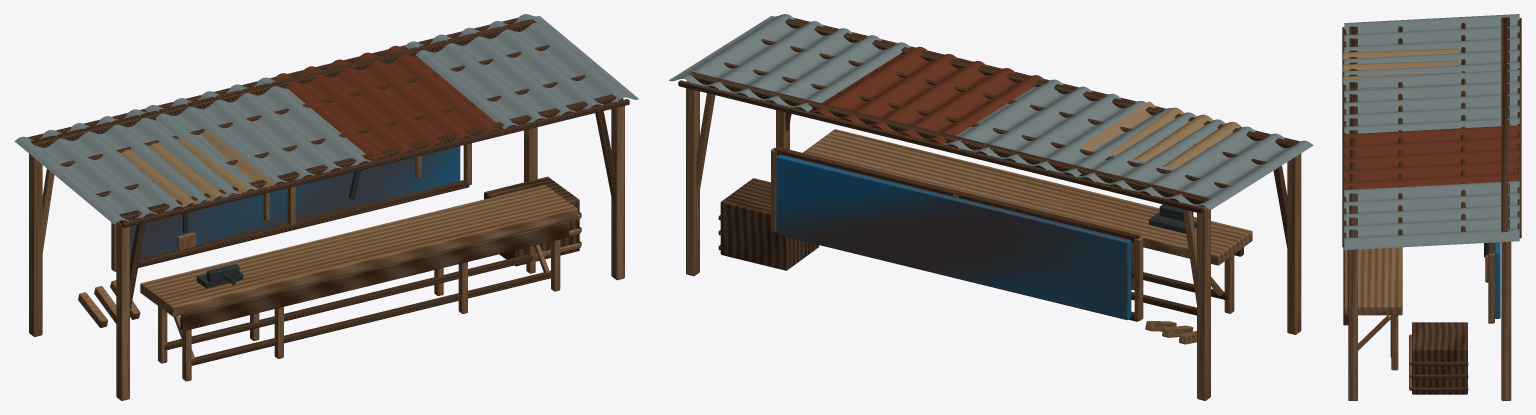
Rendered from scavenger_workarea.glb.
The picture shows the model from 3 angles, left to right: view 1: azimuth 30°, elevation 25°; view 2: azimuth 150°, elevation 25°; view 3: azimuth 270°, elevation 25°; orthographic projection. The views are drawn at different scales.
Visible parts, largest first — view 1: Outer work bay timber post; view 2: Outer work bay timber post; view 3: Outer work bay timber post.
Boxes of the visible parts, x1,y1,x2,y2 form: Outer work bay timber post: [14, 14, 638, 400]; Outer work bay timber post: [669, 14, 1313, 400]; Outer work bay timber post: [1342, 14, 1521, 400].
Bounding box in the file's own units: 22.81 × 8.04 × 7.7.
Materials: 7 (7 with a texture image).
